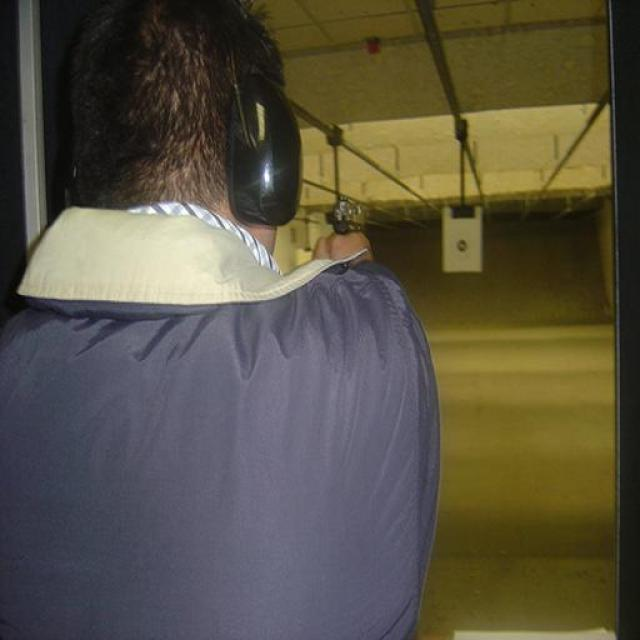pistol: (324, 196, 356, 231)
